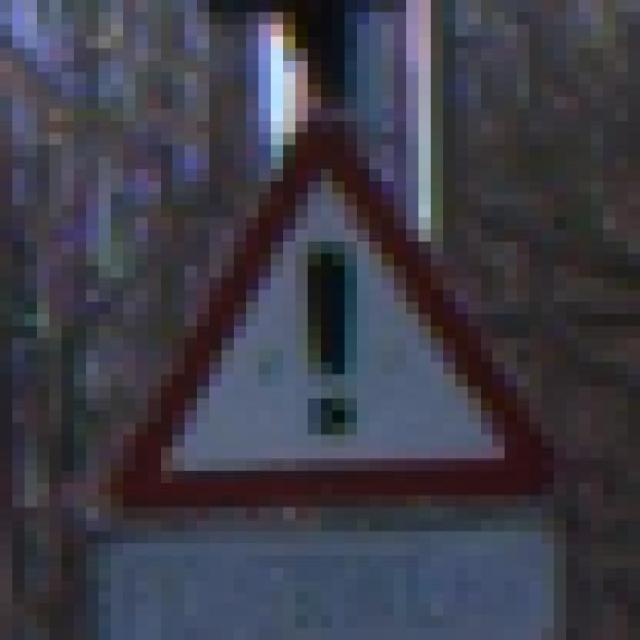Attention Please-: (111, 133, 554, 519)
